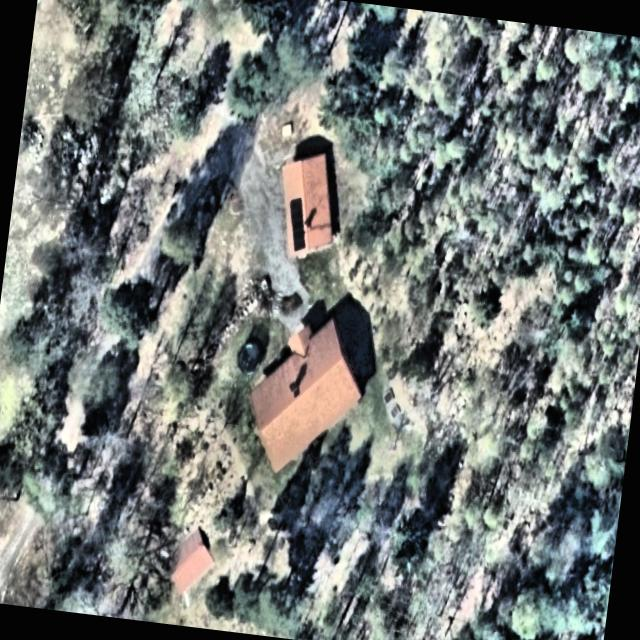roof_pv: (284, 195, 310, 262)
